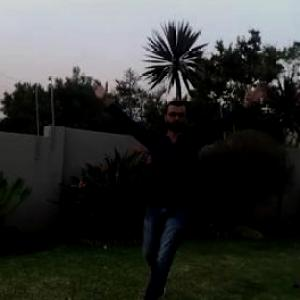takeoff: (91, 82, 270, 299)
